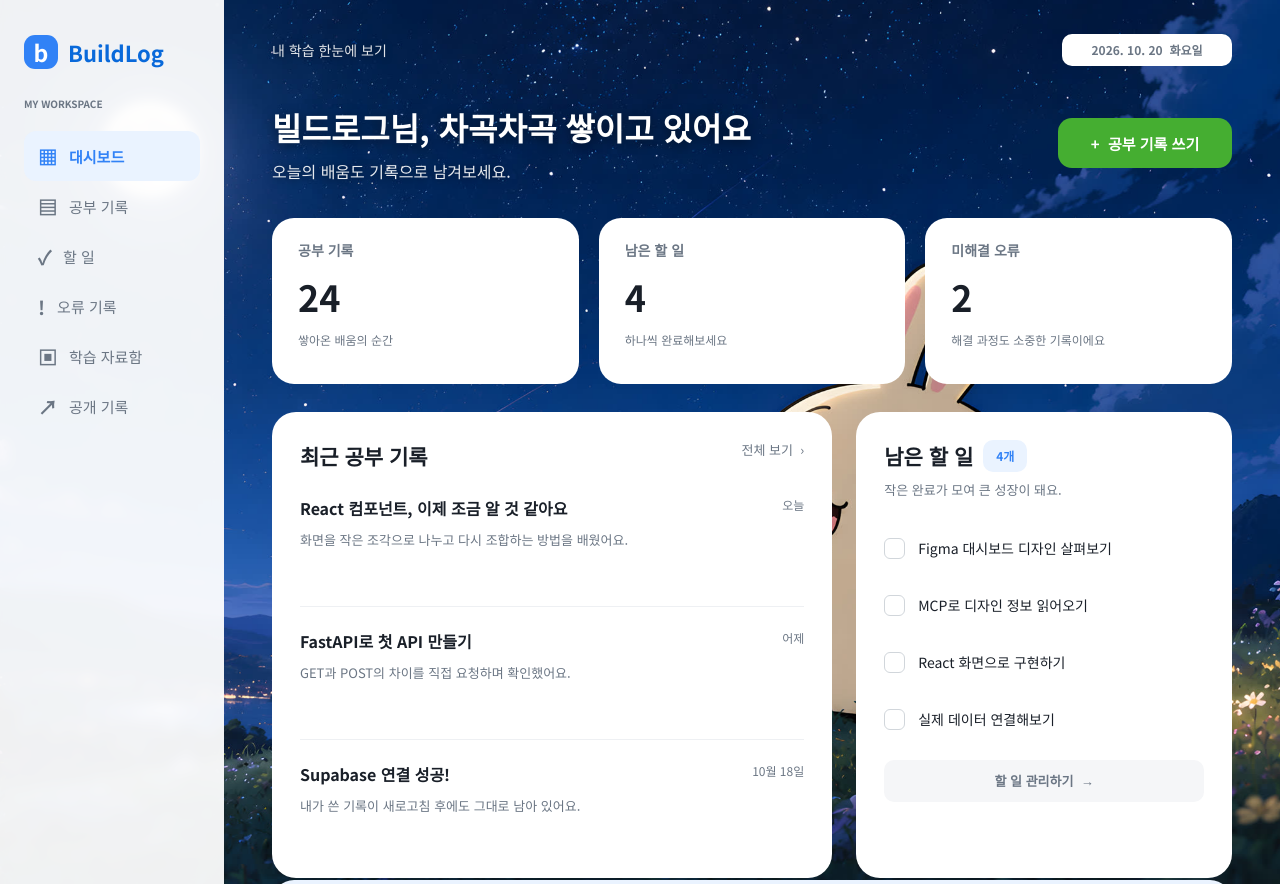
대시보드 화면 › 예시 데이터를 보여 주고, 할 일을 체크하면 숫자가 화면 안에서 바뀐다
The width and height of the screenshot is (1280, 884).
expect the heading "빌드로그님, 차곡차곡 쌓이고 있어요" is shown: met, box [272, 103, 751, 151]
Click the checkbox labelled "MCP로 디자인 정보 읽어오기" at (895, 606), box [884, 595, 905, 616]
(page scrolled)
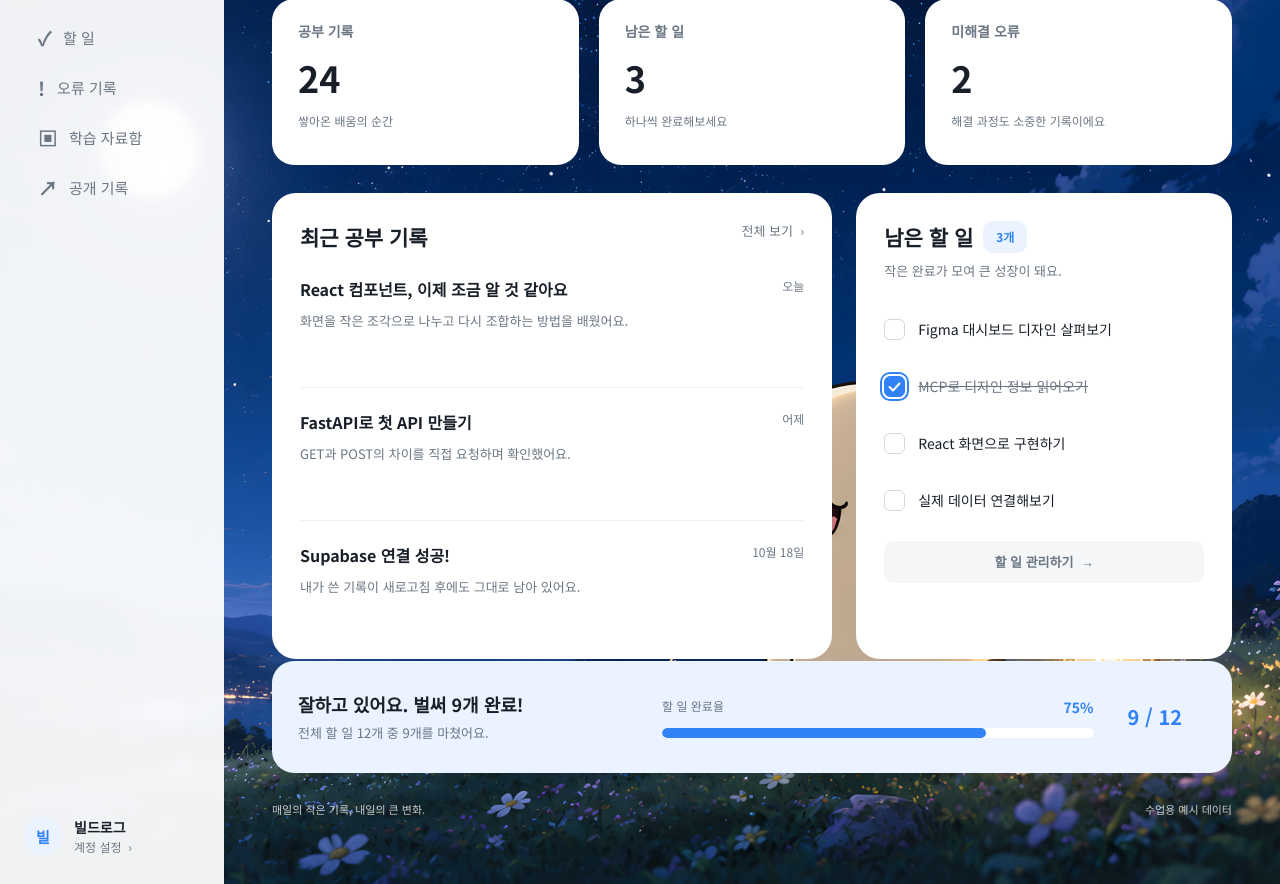
expect the text "벌써 9개 완료!" is shown: met, box [298, 691, 524, 717]
expect the text "3개" is shown: met, box [983, 221, 1027, 253]
expect the text "75%" is shown: met, box [1064, 696, 1094, 718]
